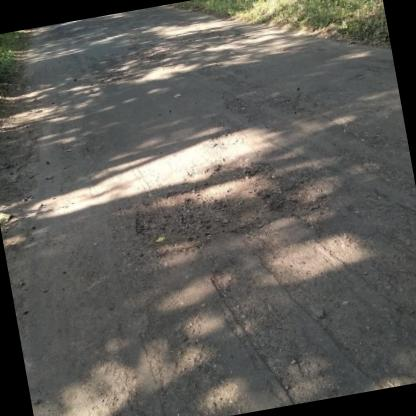pothole: (118, 146, 298, 256)
